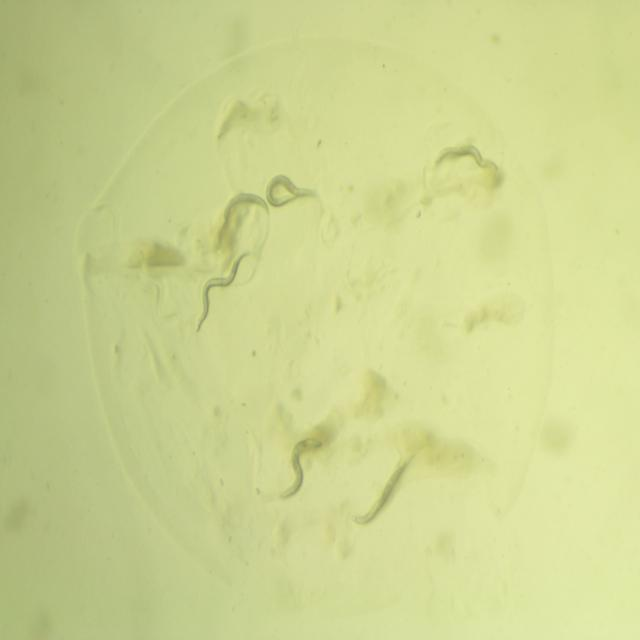worm: (345, 441, 421, 541), (187, 244, 258, 340), (263, 425, 326, 508), (209, 186, 274, 256), (428, 134, 504, 185), (260, 164, 325, 217)
